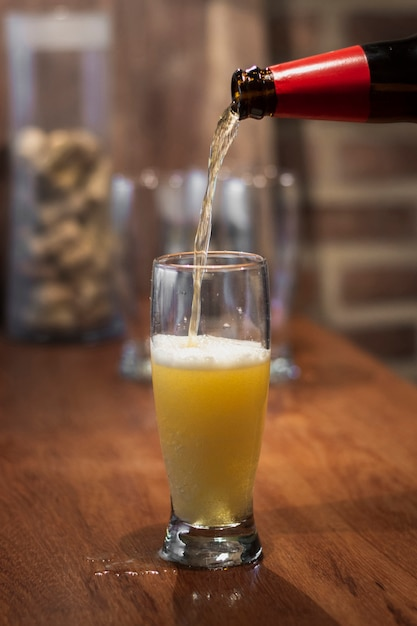alcohol: (155, 257, 266, 572), (231, 38, 417, 121)
